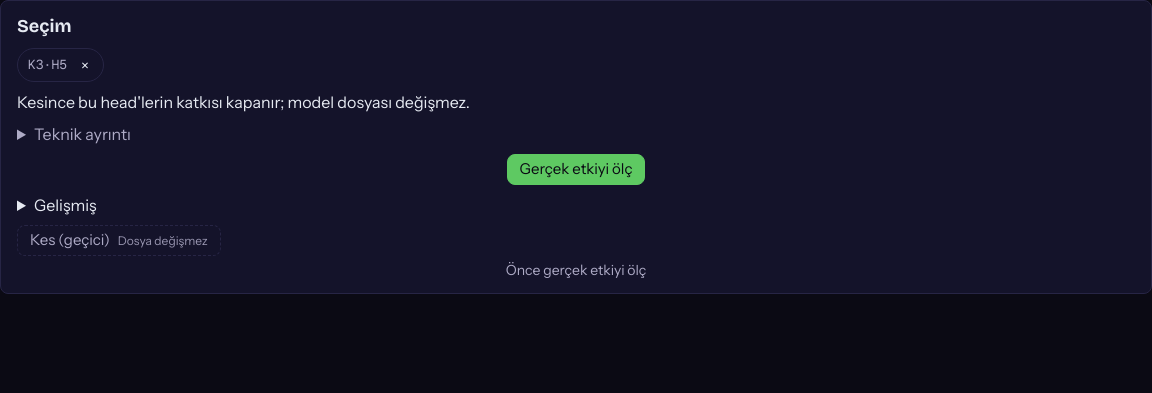
it: a malformed effect result is an error card, never a measurement
Click the button "Gerçek etkiyi ölç" at (576, 169), box [507,154,645,185]
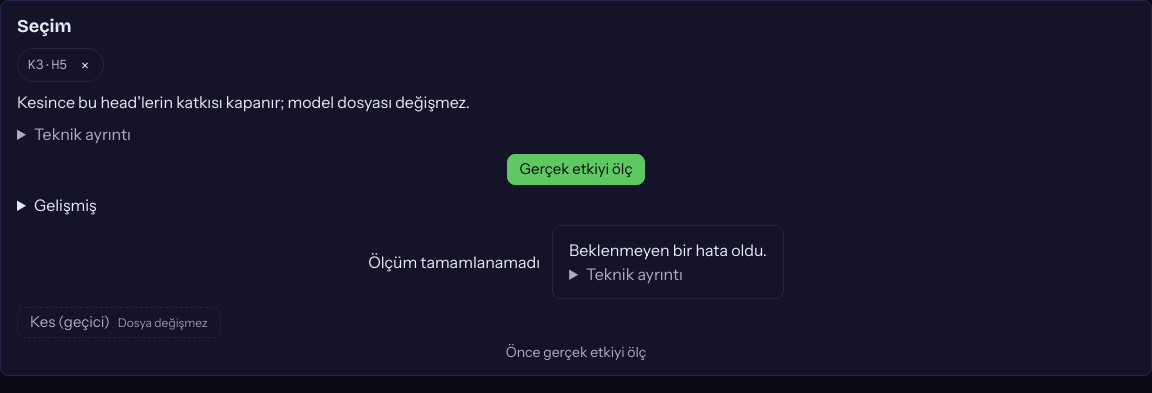
Check: the message "Beklenmeyen bir hata oldu. Teknik ayrıntı" is shown, box [552,225,784,299]
